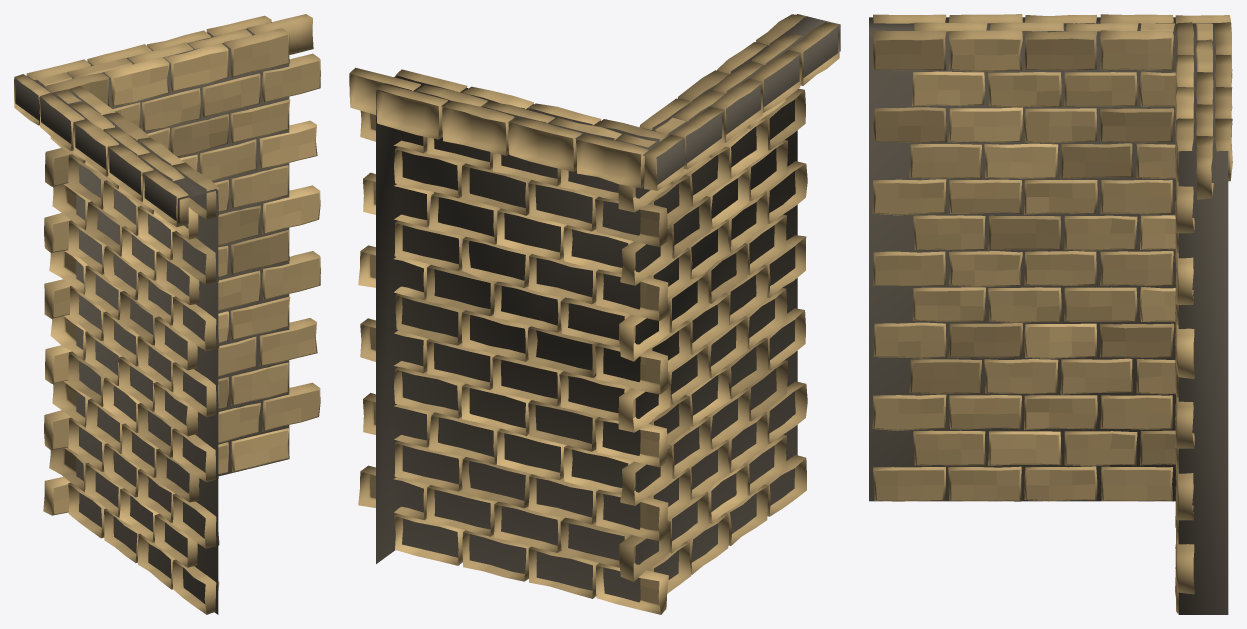
Rendered from NewWall_Corner.fbx.
3 views of the same model, side by side, from view 1: azimuth 30°, elevation 25°; view 2: azimuth 150°, elevation 25°; view 3: azimuth 270°, elevation 25° (orthographic). The views are drawn at different scales.
Visible parts, largest first — view 1: Plane; view 2: Plane; view 3: Plane.
Boxes of the visible parts, x1=… form: Plane: x1=14, y1=14, x2=320, y2=614; Plane: x1=349, y1=14, x2=840, y2=614; Plane: x1=869, y1=14, x2=1232, y2=614.
Size of the model in its own units: 251 by 357 by 253.
